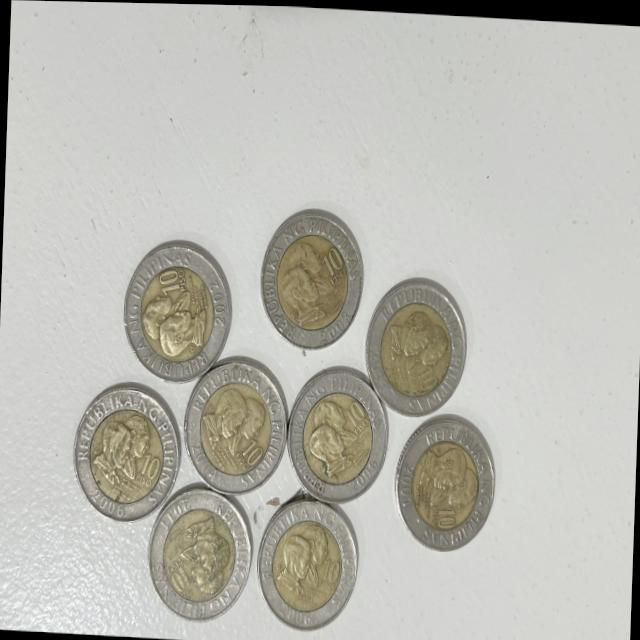10_Old_Front: (313, 229, 355, 291), (126, 444, 168, 495), (227, 431, 274, 476), (150, 258, 194, 302)
